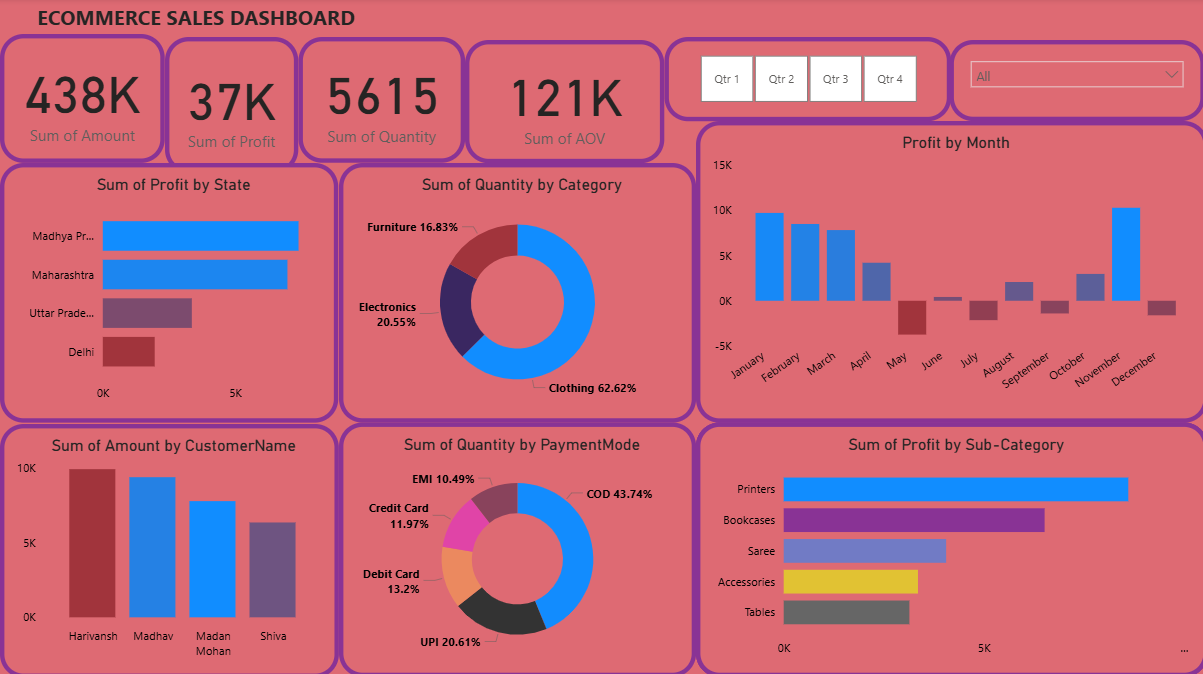

The page's visual inventory and layout, read from the dashboard file:
{"tool":"powerbi","page":{"name":"Page 1","canvas":[1280,720],"ordinal":0},"visuals":[{"type":"textbox","box":[10.1,0,397,38.5],"z":0},{"type":"columnChart","title":"Profit by Month","fields":{"Y":["Details.Profit"],"Category":["Orders.Order Date.Variation.Date Hierarchy.Month"]},"box":[738,130.4,542.4,319.7],"z":1000},{"type":"barChart","fields":{"Category":["Details.Sub-Category"],"Y":["Details.Profit"]},"box":[737.4,450.8,542.6,269.9],"z":2000},{"type":"donutChart","fields":{"Category":["Details.Category"],"Y":["Details.Quantity"]},"box":[359,175.3,378.4,275.5],"z":3000},{"type":"donutChart","fields":{"Y":["Details.Quantity"],"Category":["Details.PaymentMode"]},"box":[359,450.8,378.4,269.9],"z":4000},{"type":"card","fields":{"Values":["Details.Profit"]},"box":[175,41.4,141.6,144.7],"z":5000},{"type":"card","fields":{"Values":["Details.Amount"]},"box":[0,38.2,175,136.8],"z":6000},{"type":"card","fields":{"Values":["Details.Quantity"]},"box":[316.5,41.4,176.6,133.6],"z":7000},{"type":"card","fields":{"Values":["Details.AOV"]},"box":[492.5,44.5,211.5,130.8],"z":8000},{"type":"barChart","fields":{"Category":["Details.Sub-Category"],"Y":["Details.Profit"]},"box":[737.4,450.1,542.6,269.9],"z":9000},{"type":"barChart","fields":{"Category":["Details.Sub-Category"],"Y":["Details.Profit"]},"box":[737.4,450.1,542.6,269.9],"z":10000},{"type":"barChart","fields":{"Y":["Details.Profit"],"Category":["Orders.State"]},"box":[0,175.3,359,275.5],"z":11000},{"type":"columnChart","fields":{"Category":["Orders.CustomerName"],"Y":["Details.Amount"]},"box":[0,451,359,269],"z":12000},{"type":"slicer","fields":{"Values":["Orders.Order Date.Variation.Date Hierarchy.Quarter"]},"box":[704.6,41.4,303.8,89.1],"z":12001},{"type":"slicer","fields":{"Values":["Orders.State"]},"box":[1006.9,44.5,270.4,85.9],"z":12002}]}

Visuals, with their boxes in screenshot pixels (x1, y1, x2, y2), scaled from the page's 1280x720 canvas onto the 1203x674 screenshot:
textbox: rect(9, 0, 383, 36)
"Profit by Month" columnChart: rect(694, 122, 1202, 421)
barChart - Details.Sub-Category x Details.Profit: rect(693, 422, 1202, 673)
donutChart - Details.Category x Details.Quantity: rect(337, 164, 693, 422)
donutChart - Details.Quantity x Details.PaymentMode: rect(337, 422, 693, 673)
card - Details.Profit: rect(164, 39, 298, 174)
card - Details.Amount: rect(0, 36, 164, 164)
card - Details.Quantity: rect(297, 39, 463, 164)
card - Details.AOV: rect(463, 42, 662, 164)
barChart - Details.Sub-Category x Details.Profit: rect(693, 421, 1202, 673)
barChart - Details.Sub-Category x Details.Profit: rect(693, 421, 1202, 673)
barChart - Details.Profit x Orders.State: rect(0, 164, 337, 422)
columnChart - Orders.CustomerName x Details.Amount: rect(0, 422, 337, 673)
slicer - Orders.Order Date.Variation.Date Hierarchy.Quarter: rect(662, 39, 948, 122)
slicer - Orders.State: rect(946, 42, 1200, 122)
